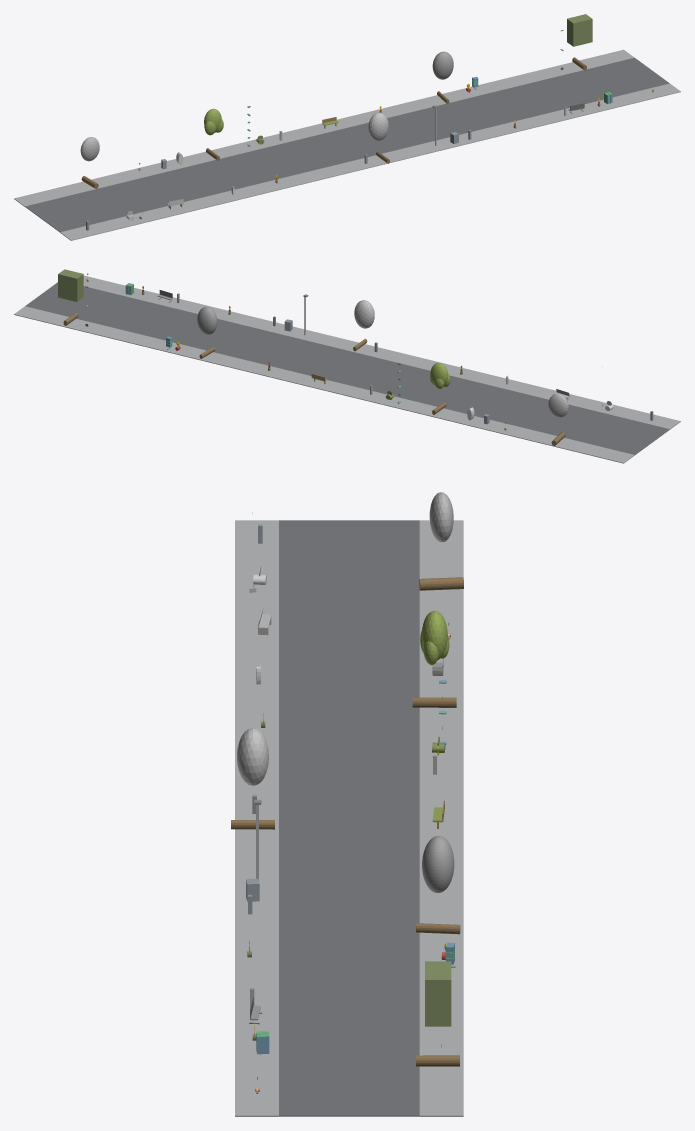
3 renders of one model, top to bottom at view 1: azimuth 30°, elevation 25°; view 2: azimuth 150°, elevation 25°; view 3: azimuth 270°, elevation 25°, orthographic. The views are drawn at different scales.
Parts seen in each view (by area): view 1: road_slab, sidewalk_left, sidewalk_right, inst_0016, inst_0014, inst_0015, inst_0013, inst_0012; view 2: road_slab, sidewalk_right, sidewalk_left, inst_0016, inst_0014, inst_0015, inst_0013, inst_0012; view 3: road_slab, sidewalk_left, sidewalk_right, inst_0016, inst_0015, inst_0014, inst_0013, inst_0012.
Part boxes in pixels (left/top/right/bottom): road_slab: left=25, top=57, right=669, bottom=232; sidewalk_left: left=60, top=83, right=680, bottom=240; sidewalk_right: left=14, top=49, right=634, bottom=206; inst_0016: left=567, top=14, right=592, bottom=70; inst_0014: left=368, top=112, right=389, bottom=163; inst_0015: left=432, top=51, right=453, bottom=103; inst_0013: left=204, top=108, right=223, bottom=160; inst_0012: left=80, top=137, right=99, bottom=188; road_slab: left=25, top=282, right=669, bottom=454; sidewalk_right: left=14, top=306, right=634, bottom=463; sidewalk_left: left=83, top=275, right=680, bottom=429; inst_0016: left=58, top=269, right=83, bottom=325; inst_0014: left=353, top=300, right=374, bottom=351; inst_0015: left=197, top=307, right=217, bottom=358; inst_0013: left=430, top=362, right=450, bottom=414; inst_0012: left=548, top=393, right=568, bottom=445; road_slab: left=279, top=520, right=419, bottom=1116; sidewalk_left: left=235, top=520, right=278, bottom=1116; sidewalk_right: left=419, top=520, right=463, bottom=1116; inst_0016: left=416, top=961, right=459, bottom=1066; inst_0015: left=416, top=836, right=460, bottom=934; inst_0014: left=231, top=727, right=274, bottom=829; inst_0013: left=412, top=610, right=456, bottom=707; inst_0012: left=419, top=492, right=463, bottom=590.
Size of the model in its own units: 80 by 6.08 by 13.25.
